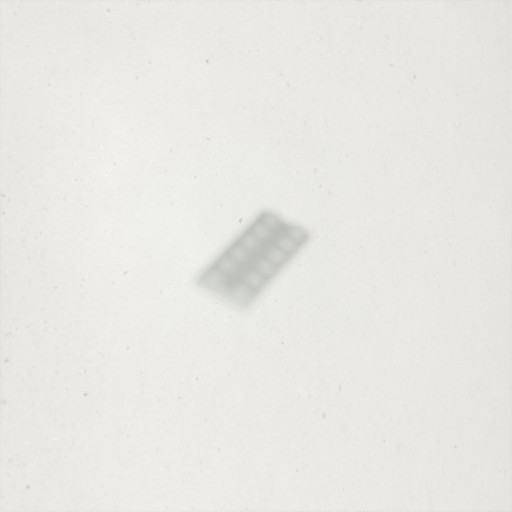lego: (191, 207, 314, 315)
